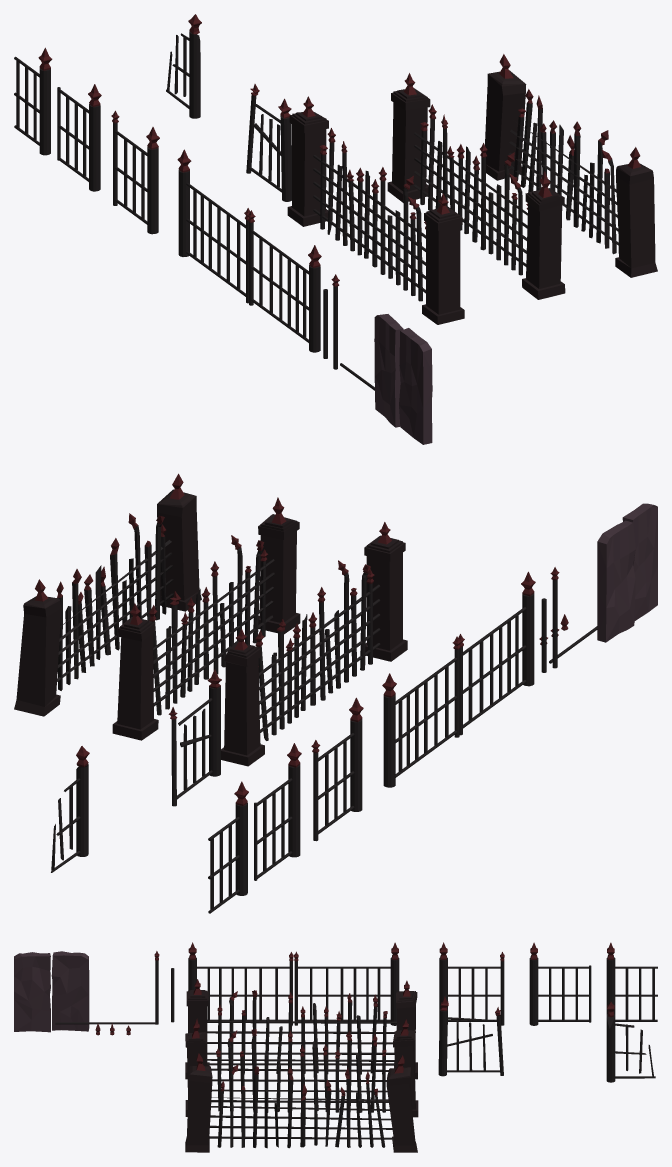
The model's file is Gates_fence_spike_collection.fbx.
The picture shows the model from 3 angles, top to bottom: view 1: azimuth 30°, elevation 25°; view 2: azimuth 150°, elevation 25°; view 3: azimuth 270°, elevation 25°; orthographic projection. The views are drawn at different scales.
Parts seen in each view (by area): view 1: Metal_fence_harmed_v1, Metal_fence_harmed_v3, Metal_fence_harmed_v2, Metal_long_gate_left, Metal_long_gate_right, Gate_stone_left, Metal_short_gate_v1, Gate_stone_right, Metal_short_gate_v2, Metal_short_gate_harmed_v1, Metal_short_gate_v3, Metal_short_gate_harmed_v3; view 2: Metal_fence_harmed_v1, Metal_fence_harmed_v3, Metal_fence_harmed_v2, Metal_long_gate_right, Metal_long_gate_left, Gate_stone_right, Metal_short_gate_v1, Metal_short_gate_harmed_v1, Metal_short_gate_v2, Gate_stone_left, Metal_short_gate_v3, Metal_short_gate_harmed_v3; view 3: Metal_fence_harmed_v3, Metal_fence_harmed_v2, Metal_fence_harmed_v1, Gate_stone_right, Gate_stone_left, Metal_long_gate_right, Metal_long_gate_left, Metal_short_gate_v2, Metal_short_gate_harmed_v1, Metal_short_gate_v1, Metal_short_gate_v3, Metal_short_gate_harmed_v3.
Boxes of the visible parts, x1,y1,x2,y2 form: Metal_fence_harmed_v1: [287, 96, 464, 324]; Metal_fence_harmed_v3: [485, 54, 657, 277]; Metal_fence_harmed_v2: [387, 73, 565, 299]; Metal_long_gate_left: [247, 210, 321, 352]; Metal_long_gate_right: [177, 149, 250, 303]; Gate_stone_left: [399, 328, 432, 444]; Metal_short_gate_v1: [111, 110, 159, 234]; Gate_stone_right: [374, 314, 403, 427]; Metal_short_gate_v2: [57, 84, 101, 191]; Metal_short_gate_harmed_v1: [246, 84, 291, 201]; Metal_short_gate_v3: [14, 47, 52, 155]; Metal_short_gate_harmed_v3: [166, 14, 201, 118]; Metal_fence_harmed_v1: [221, 522, 407, 766]; Metal_fence_harmed_v3: [14, 473, 201, 716]; Metal_fence_harmed_v2: [112, 497, 300, 740]; Metal_long_gate_right: [382, 636, 461, 787]; Metal_long_gate_left: [458, 571, 535, 735]; Gate_stone_right: [597, 520, 635, 642]; Metal_short_gate_v1: [311, 697, 363, 841]; Metal_short_gate_harmed_v1: [168, 669, 221, 806]; Metal_short_gate_v2: [254, 743, 301, 880]; Gate_stone_left: [622, 503, 657, 620]; Metal_short_gate_v3: [208, 781, 248, 913]; Metal_short_gate_harmed_v3: [51, 746, 89, 872]; Metal_fence_harmed_v3: [185, 1053, 417, 1152]; Metal_fence_harmed_v2: [185, 1018, 418, 1117]; Metal_fence_harmed_v1: [185, 979, 417, 1079]; Gate_stone_right: [51, 951, 89, 1031]; Gate_stone_left: [14, 952, 50, 1032]; Metal_long_gate_right: [294, 942, 399, 1025]; Metal_long_gate_left: [188, 942, 293, 1025]; Metal_short_gate_v2: [529, 942, 591, 1025]; Metal_short_gate_harmed_v1: [438, 996, 503, 1076]; Metal_short_gate_v1: [439, 942, 504, 1025]; Metal_short_gate_v3: [606, 942, 657, 1021]; Metal_short_gate_harmed_v3: [606, 1002, 655, 1082].
Bounding box in the file's own units: 2001 × 4122 × 722.
